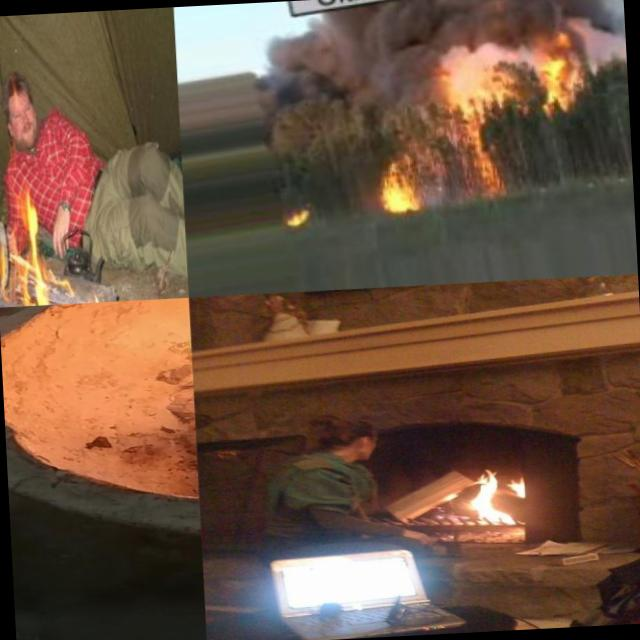fire: (0, 191, 74, 307), (450, 462, 535, 530), (365, 158, 419, 214), (464, 120, 500, 192), (442, 78, 514, 110), (532, 45, 566, 104), (277, 204, 320, 225)
smoke: (264, 6, 532, 89), (562, 0, 627, 69)
